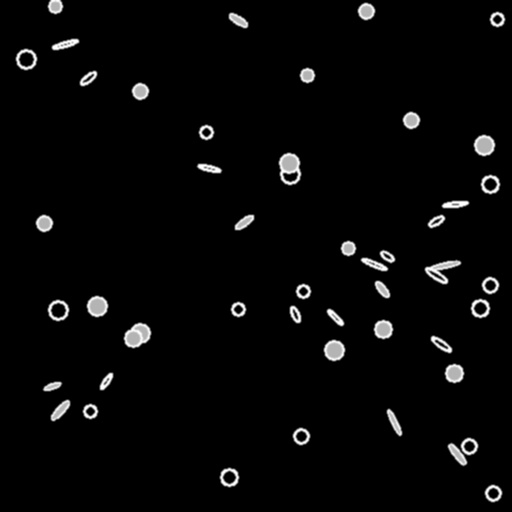pseudomonas: (49, 399, 71, 421), (424, 265, 448, 285), (447, 443, 467, 465), (386, 409, 402, 435), (361, 256, 387, 272), (430, 335, 452, 353), (227, 11, 249, 29), (326, 308, 344, 326), (234, 214, 254, 230), (52, 38, 78, 50), (79, 70, 97, 86), (374, 280, 390, 298), (431, 260, 459, 270), (427, 214, 445, 228), (288, 305, 302, 323), (99, 372, 113, 390), (379, 249, 395, 263), (198, 163, 220, 173), (443, 200, 467, 208), (43, 381, 61, 391)
synechocystis: (49, 301, 67, 319), (131, 324, 149, 342), (281, 165, 299, 183), (17, 50, 35, 68), (325, 341, 343, 359), (475, 136, 493, 154), (88, 297, 106, 315), (280, 154, 298, 172), (125, 330, 141, 346), (375, 321, 391, 337), (482, 176, 498, 192), (221, 469, 237, 485), (472, 300, 488, 316), (446, 365, 462, 381), (404, 113, 418, 127), (37, 216, 51, 230), (486, 486, 500, 500), (483, 278, 497, 292), (294, 429, 308, 443), (462, 439, 476, 453), (359, 4, 373, 18), (133, 84, 147, 98), (49, 0, 61, 12), (491, 13, 503, 25), (84, 405, 96, 417), (342, 242, 354, 254), (200, 126, 212, 138), (232, 303, 244, 315), (301, 69, 313, 81), (297, 285, 309, 297)
